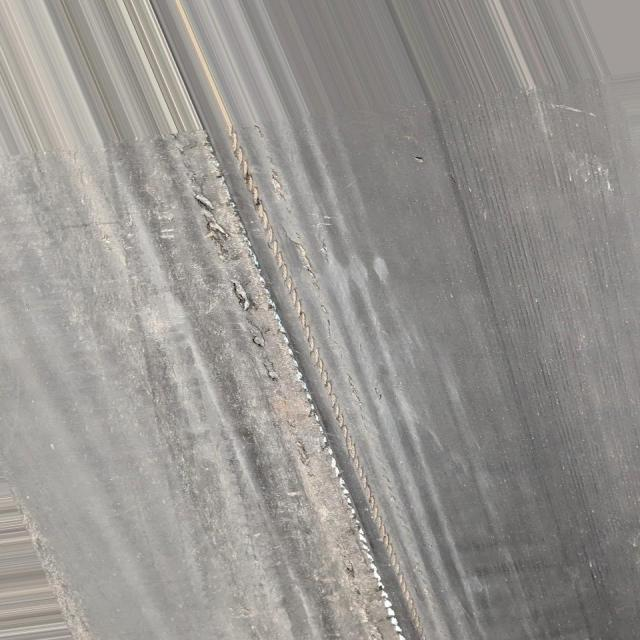impact damage: (114, 125, 418, 638)
